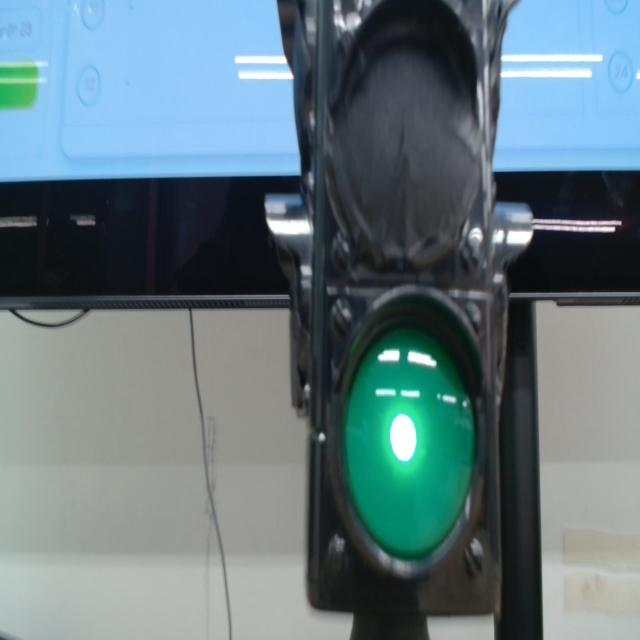green_light: (342, 326, 475, 559), (390, 414, 416, 461)
